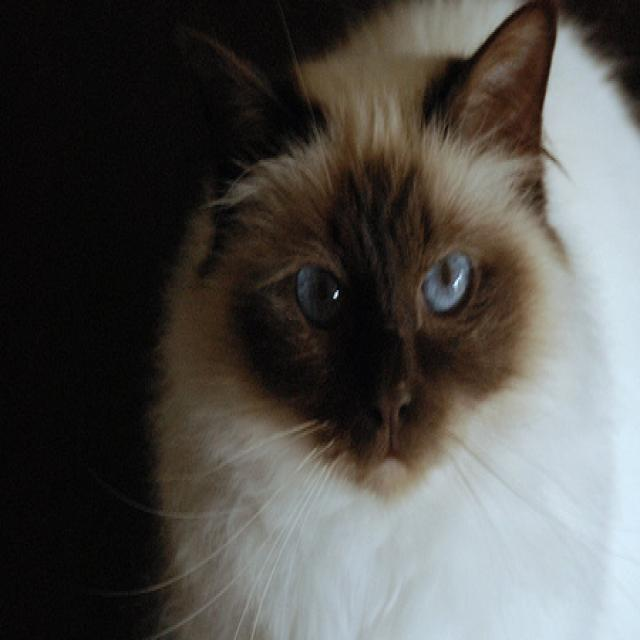Birman: (149, 0, 640, 640)
